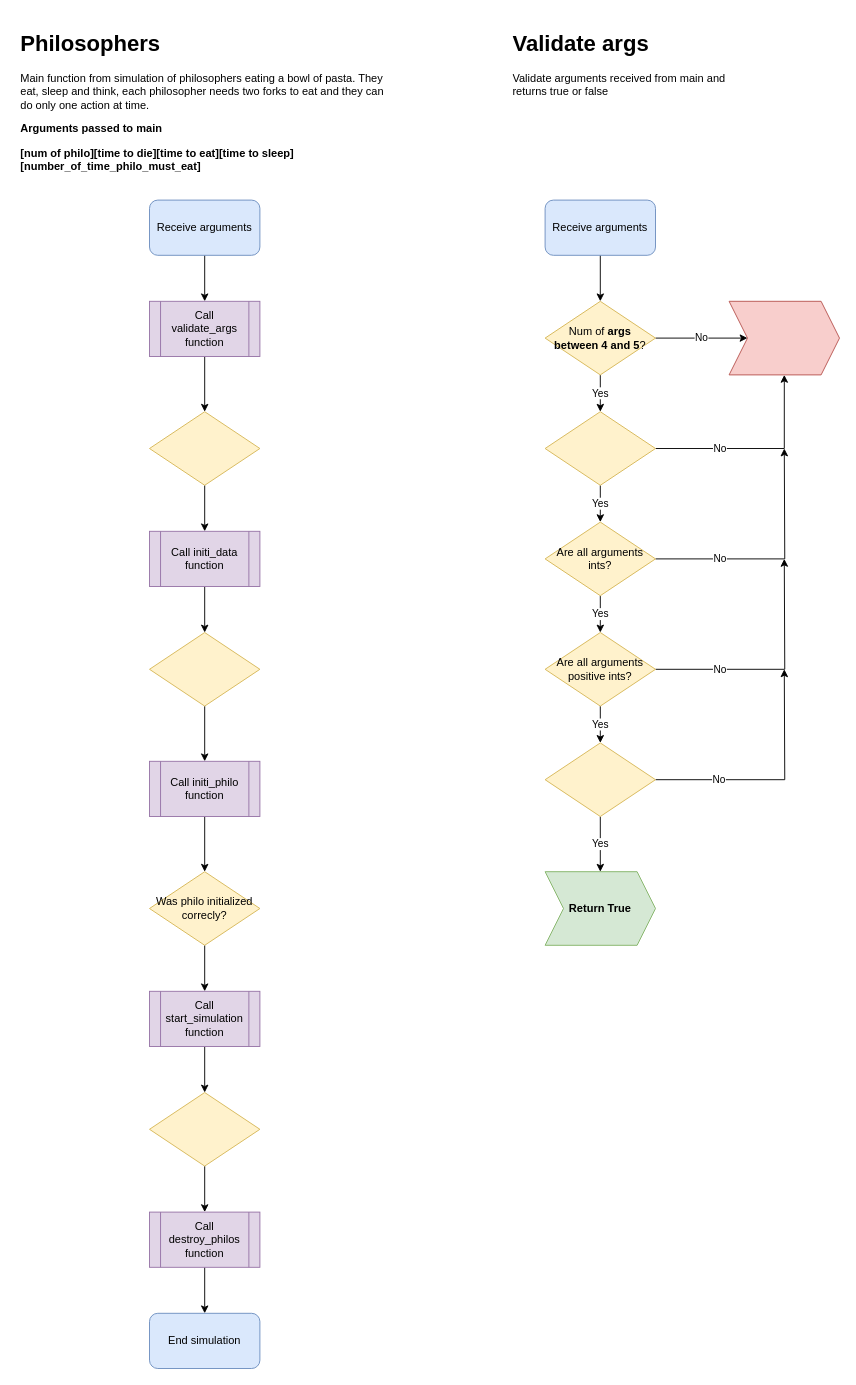
The diagram is 856 pixels wide and 1385 high, and some of its shapes have lost their labels. The shapes that lost their labels are listed below. From the top down, each one's centre as x and y in pixels, then its label:
the point at 784,337: Return False
the point at 204,448: Are valid arguments?
the point at 600,448: Are there only digits?
the point at 204,669: Was data initialized correctly?
the point at 600,779: Is there at least one philosopher?
the point at 204,1129: has simulation finished?
